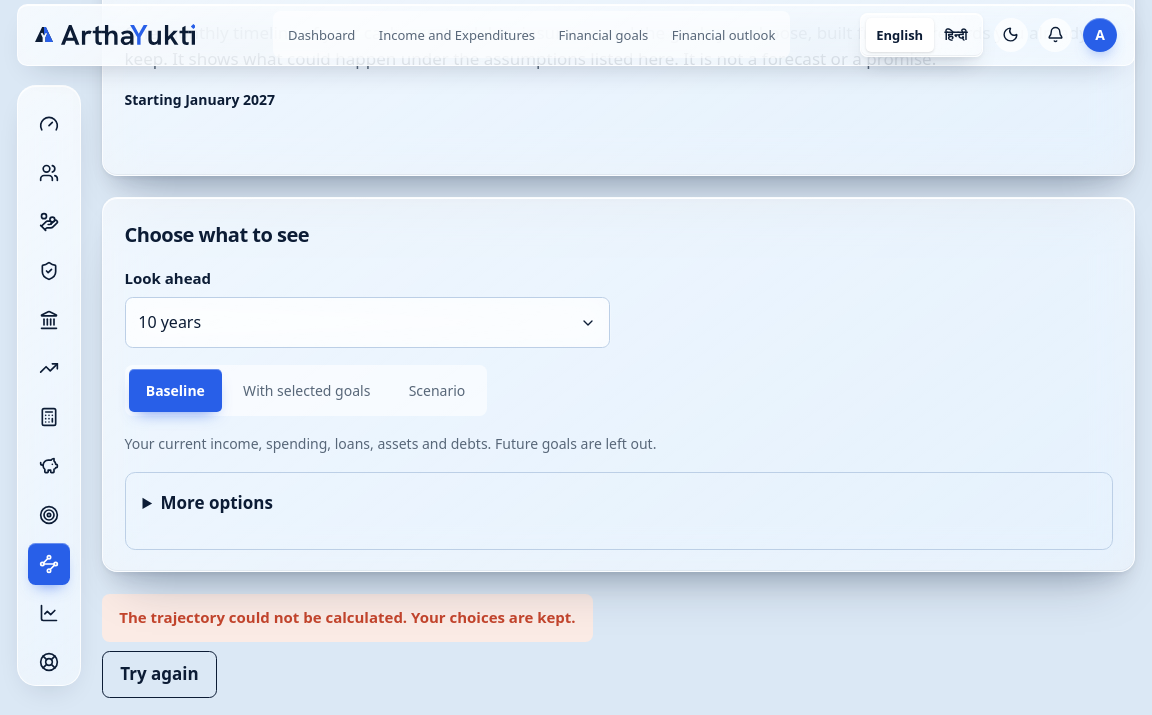
it: the Financial Trajectory tab › says so, keeps the choices and shows no invented numbers when the calculation fails
(page scrolled)
Check: the text "The trajectory could not be calculated. Your choices are kept." is shown, box [102, 594, 593, 642]
Check: the text "Net worth now" is not shown
Click the button "Try again".
click(160, 674)  # box [102, 651, 217, 698]
(page scrolled)
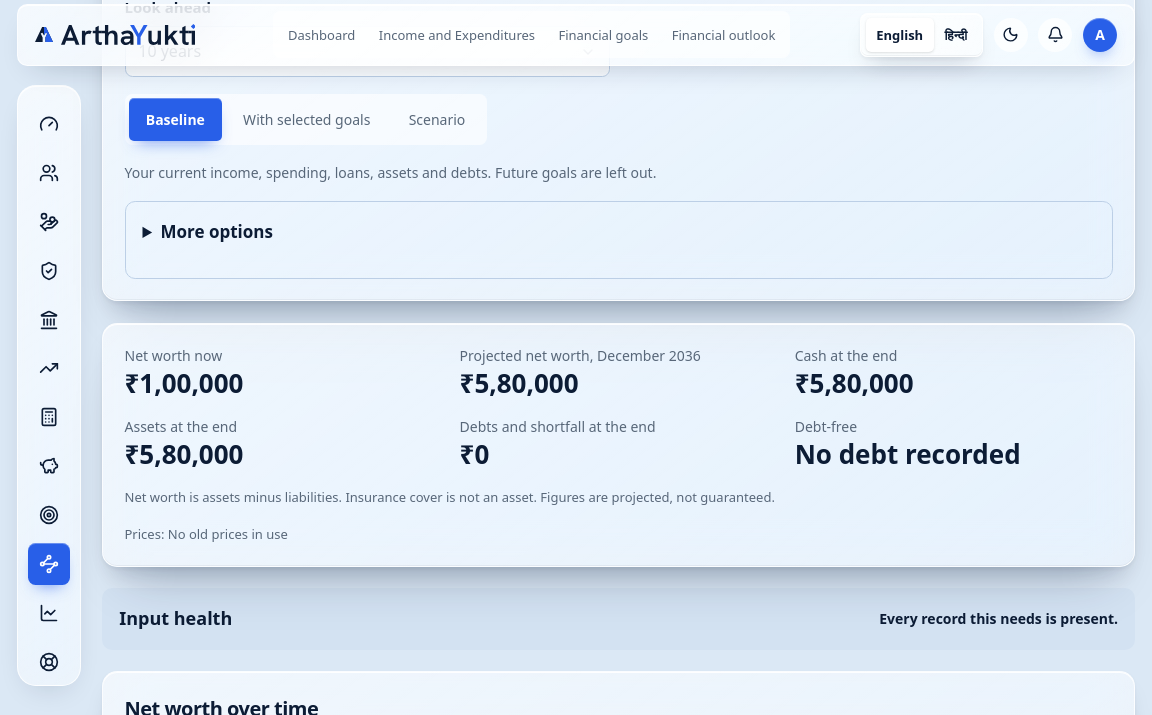
Check: the text "Net worth now" is shown, box [124, 346, 222, 365]
